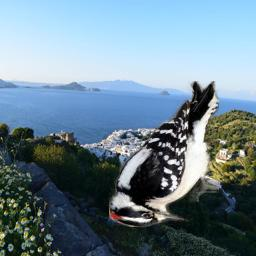Woodpecker: (109, 81, 219, 227)
